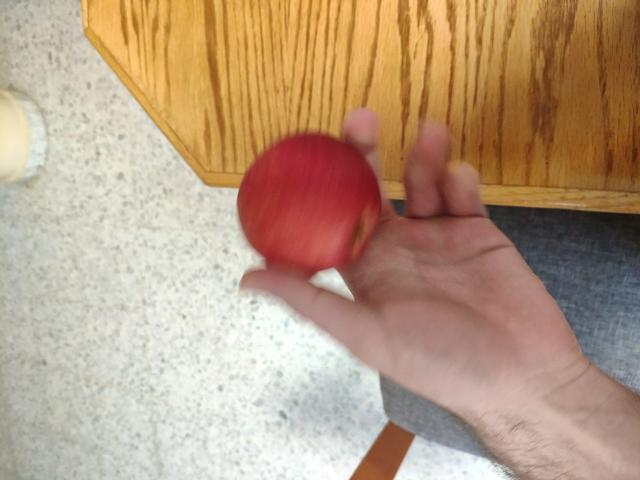apple: (225, 131, 380, 294)
